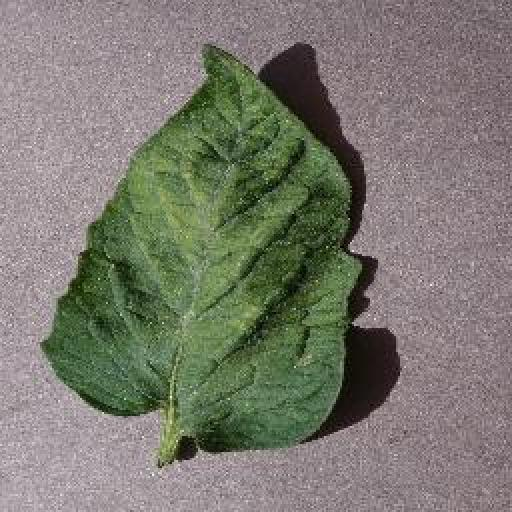Spider Mites: (41, 39, 360, 452)
